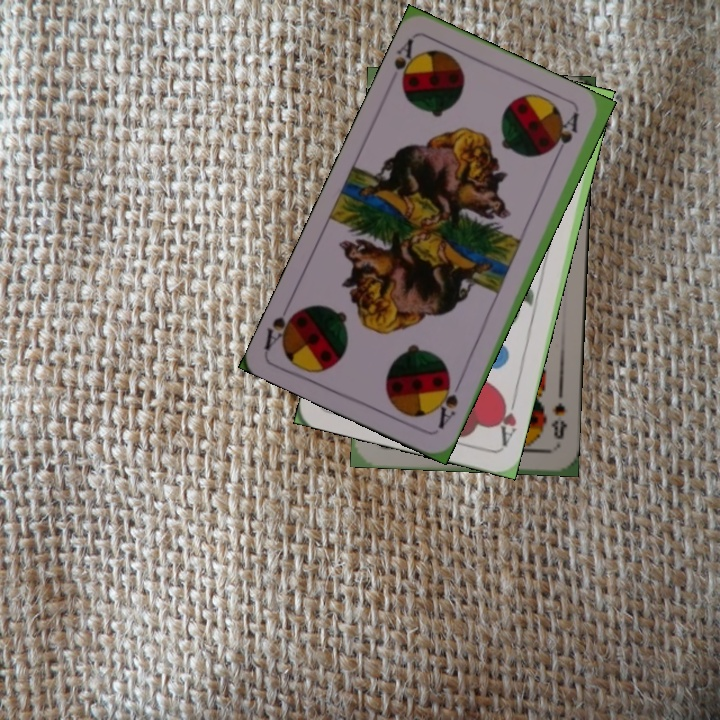HA: (492, 391, 519, 449)
S8: (547, 398, 570, 442)
SA: (390, 34, 424, 95), (432, 374, 461, 432)
